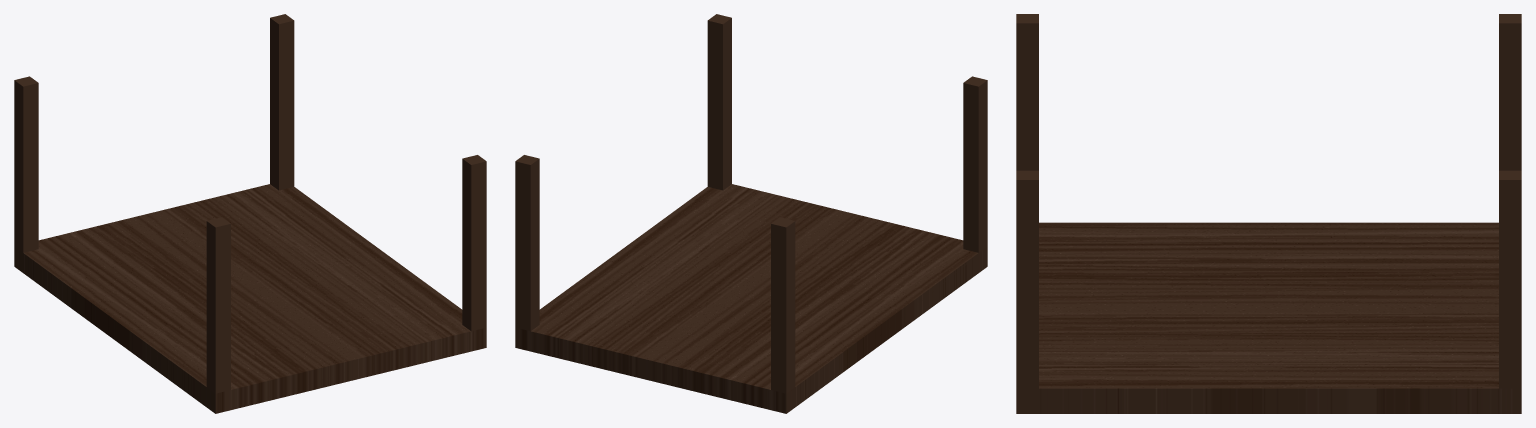
3 renders of one model, left to right at view 1: azimuth 30°, elevation 25°; view 2: azimuth 150°, elevation 25°; view 3: azimuth 270°, elevation 25°, orthographic. The views are drawn at different scales.
Parts seen in each view (by area): view 1: box_3_2_4; view 2: box_3_2_4; view 3: box_3_2_4.
Boxes of the visible parts, x1,y1,x2,y2 form: box_3_2_4: [14, 14, 486, 413]; box_3_2_4: [515, 14, 987, 413]; box_3_2_4: [1016, 14, 1521, 413].
Bounding box in the file's own units: 0.14 × 0.092 × 0.18.
Materials: 2 (1 with a texture image).
